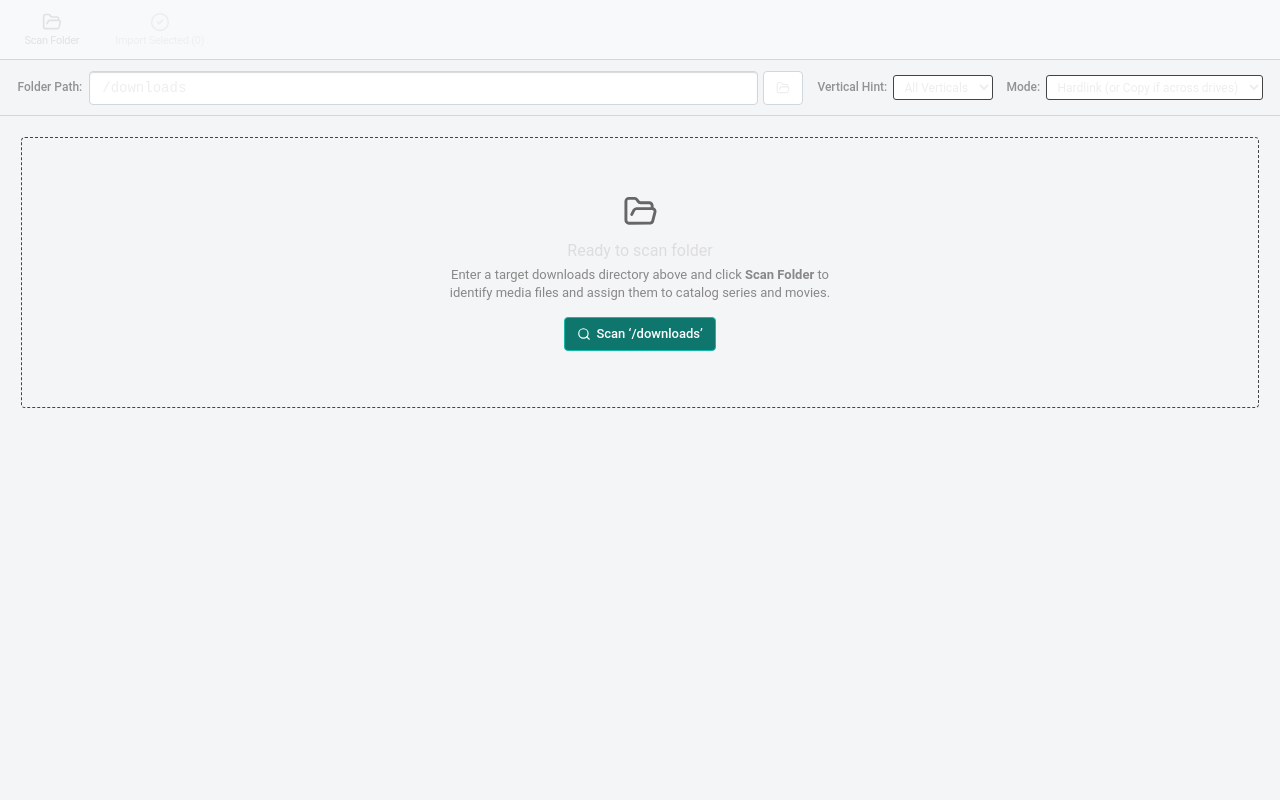
Test: PathBrowserModal & PathBrowserInput Integration › browses manual import path with includeFiles=true, selects a file, and populates manual import input
Click the button named "Browse Manual Import Folder or File": [783, 88] box [763,70,803,104]
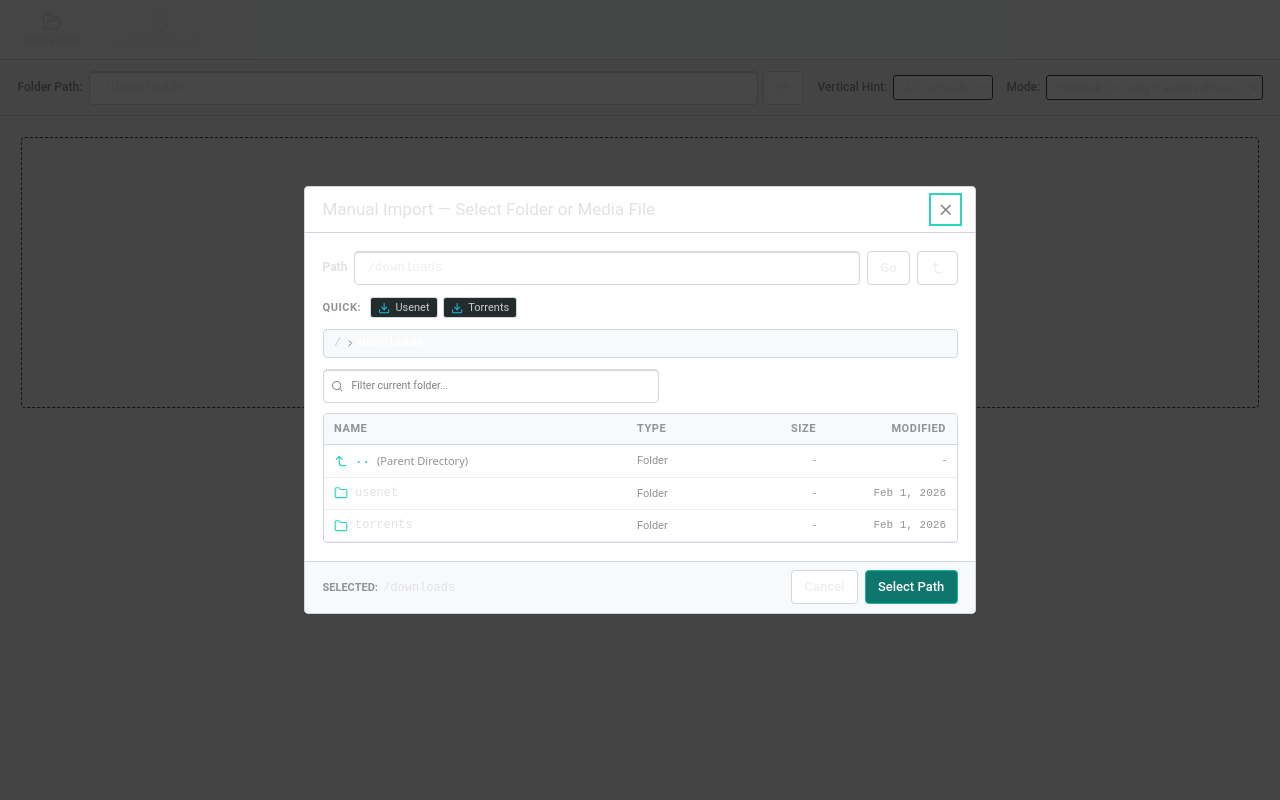
Result: the heading "Manual Import — Select Folder or Media File" is shown at [322,197,655,222]
Result: the button "Usenet" is shown
Click the button "Usenet": [404, 308] box [370,297,438,318]
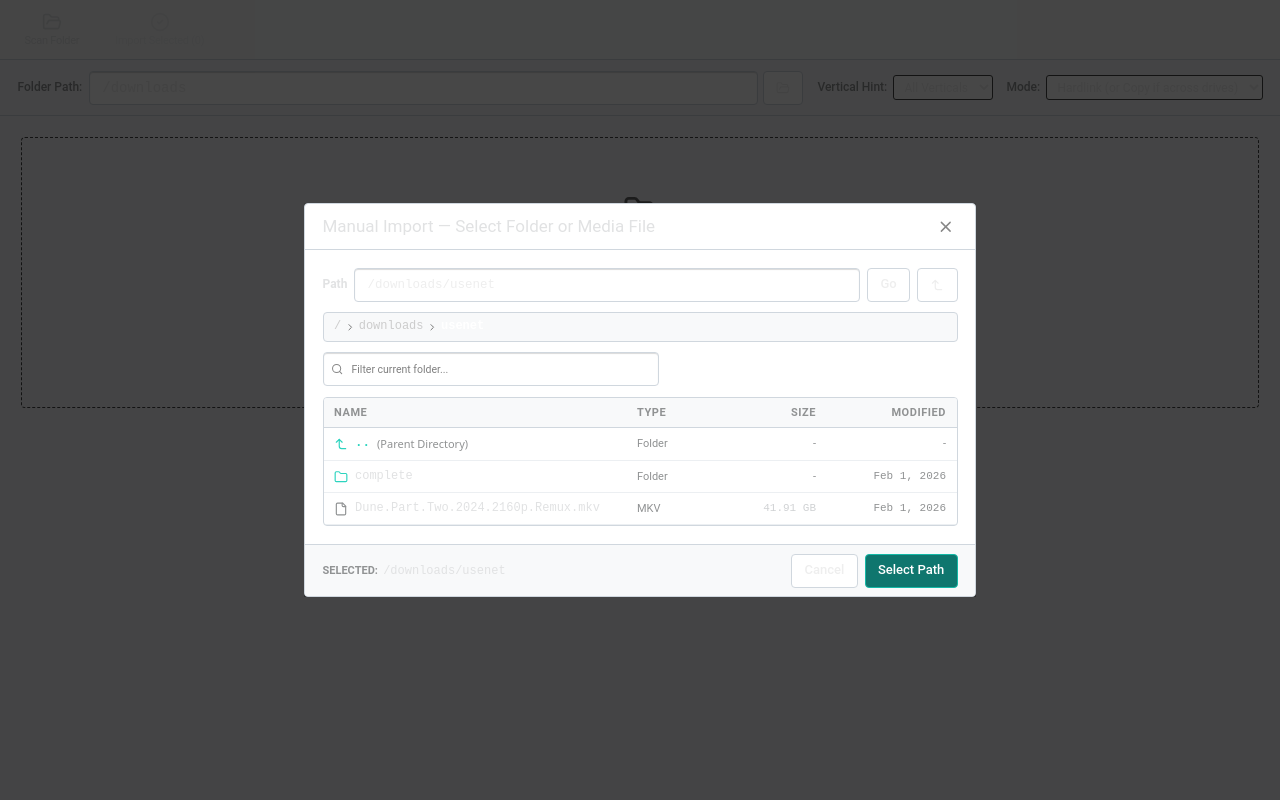
Result: the button "Dune.Part.Two.2024.2160p.Remux.mkv" is shown
Result: the text "41.91 GB" is shown at [726,493,826,525]
Note: Click the file to select it
Click the button "Dune.Part.Two.2024.2160p.Remux.mkv": [475, 509] box [334,500,616,517]
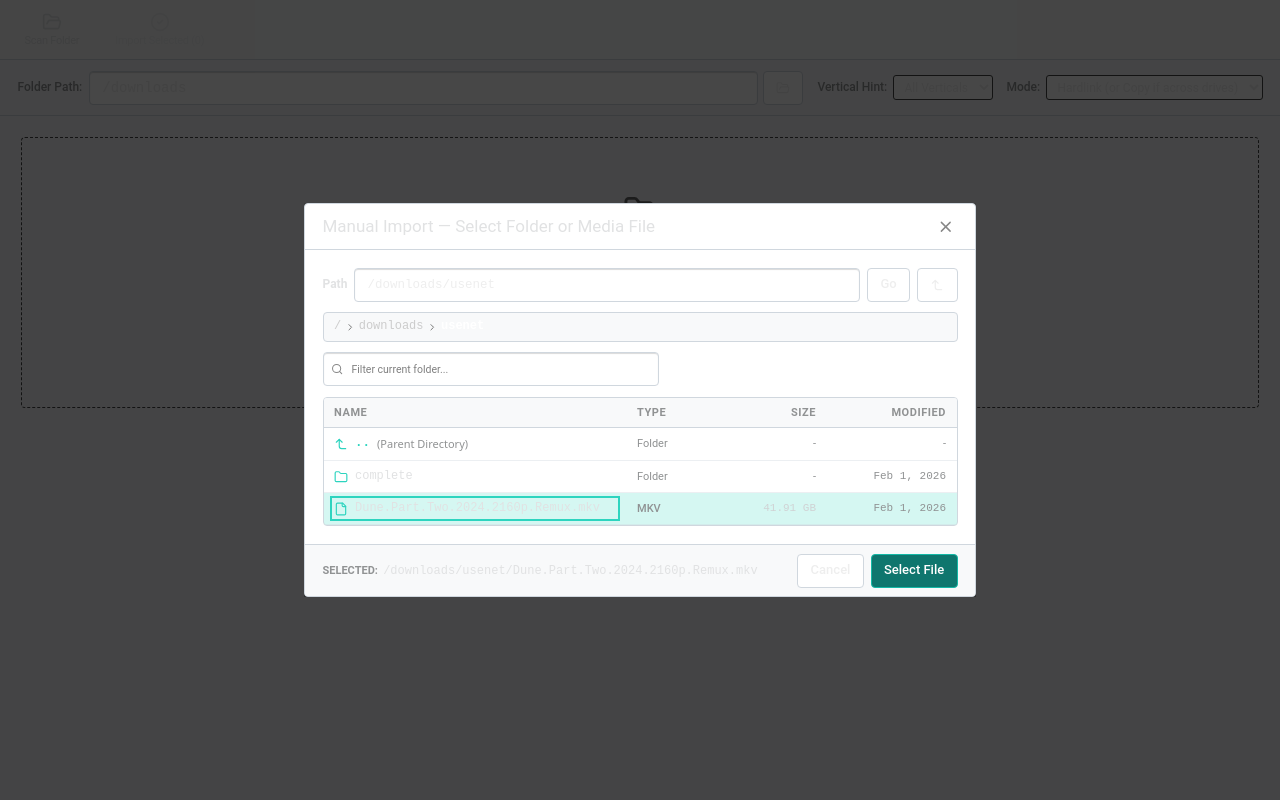
Result: the button "Select File" is enabled
Result: the button "Select File" is shown
Click the button "Select File": [914, 571] box [871,554,958,588]
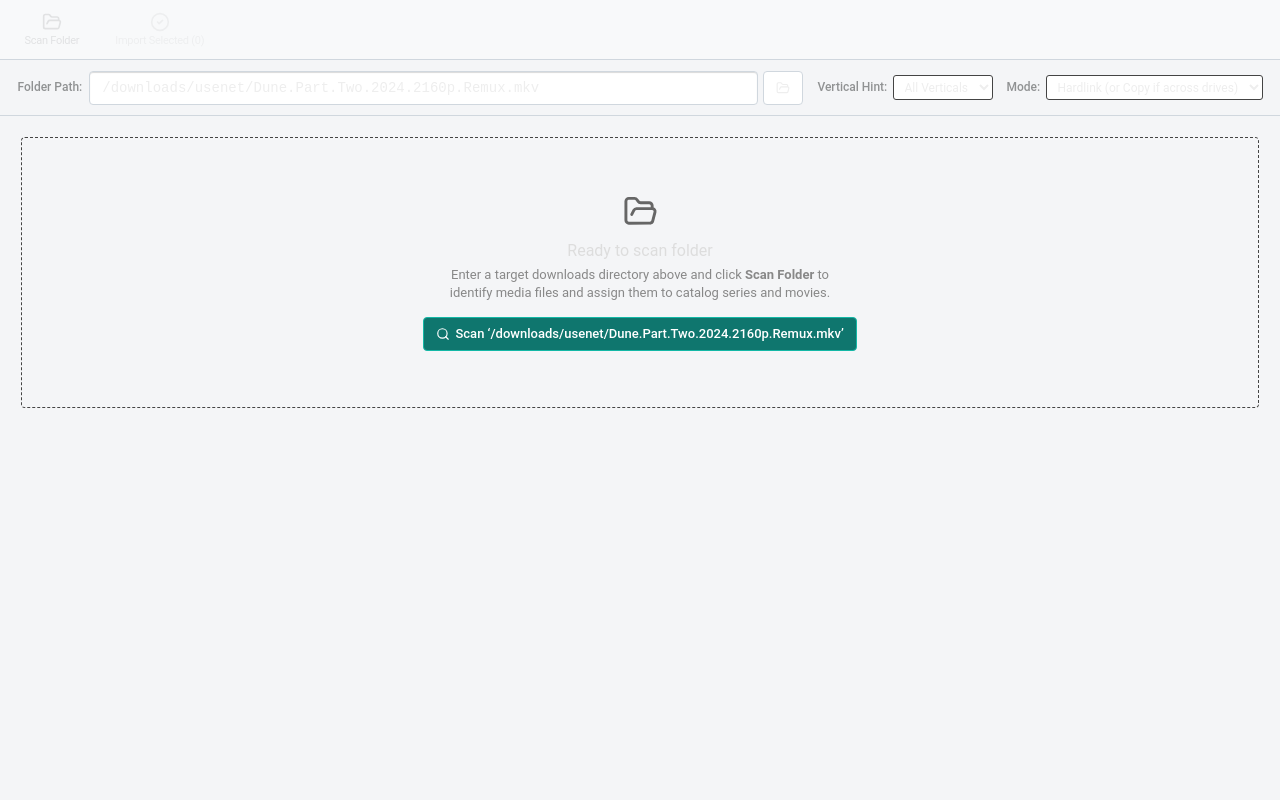
Result: the field named "Manual Import Folder or File" holds "/downloads/usenet/Dune.Part.Two.2024.2160p.Remux.mkv" at [89,70,758,104]
